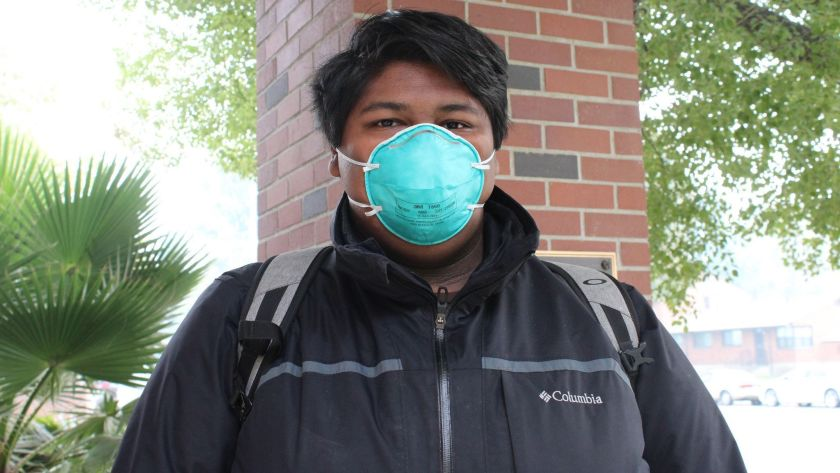n95: (355, 121, 488, 247)
